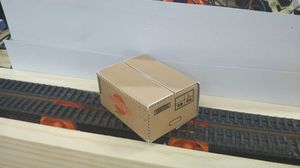box1: (95, 52, 200, 144)
